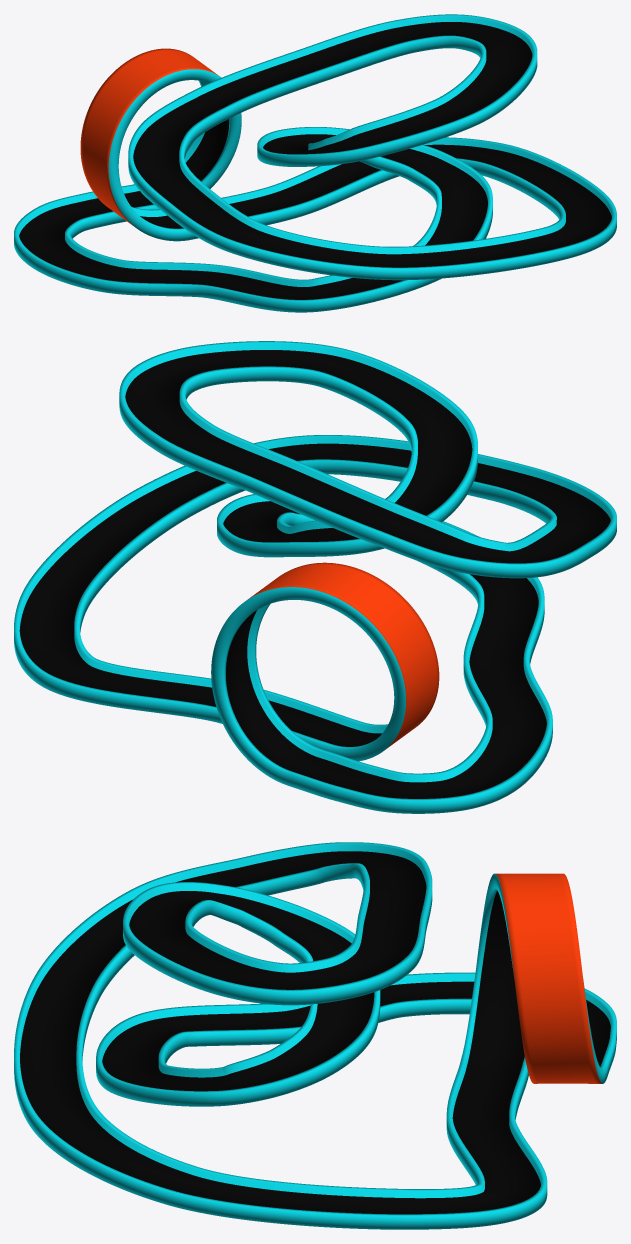
The model's file is racetrack.glb.
3 views of the same model, one above another, from view 1: azimuth 30°, elevation 25°; view 2: azimuth 150°, elevation 25°; view 3: azimuth 270°, elevation 25° (orthographic). The views are drawn at different scales.
Visible parts, largest first — view 1: SPLINE_RIGHT_EDGE.002; view 2: SPLINE_RIGHT_EDGE.002; view 3: SPLINE_RIGHT_EDGE.002.
Boxes of the visible parts, x1=… form: SPLINE_RIGHT_EDGE.002: x1=14, y1=14, x2=616, y2=312; SPLINE_RIGHT_EDGE.002: x1=14, y1=341, x2=616, y2=813; SPLINE_RIGHT_EDGE.002: x1=14, y1=842, x2=616, y2=1229.
Size of the model in its own units: 28.09 by 11.35 by 25.92.
